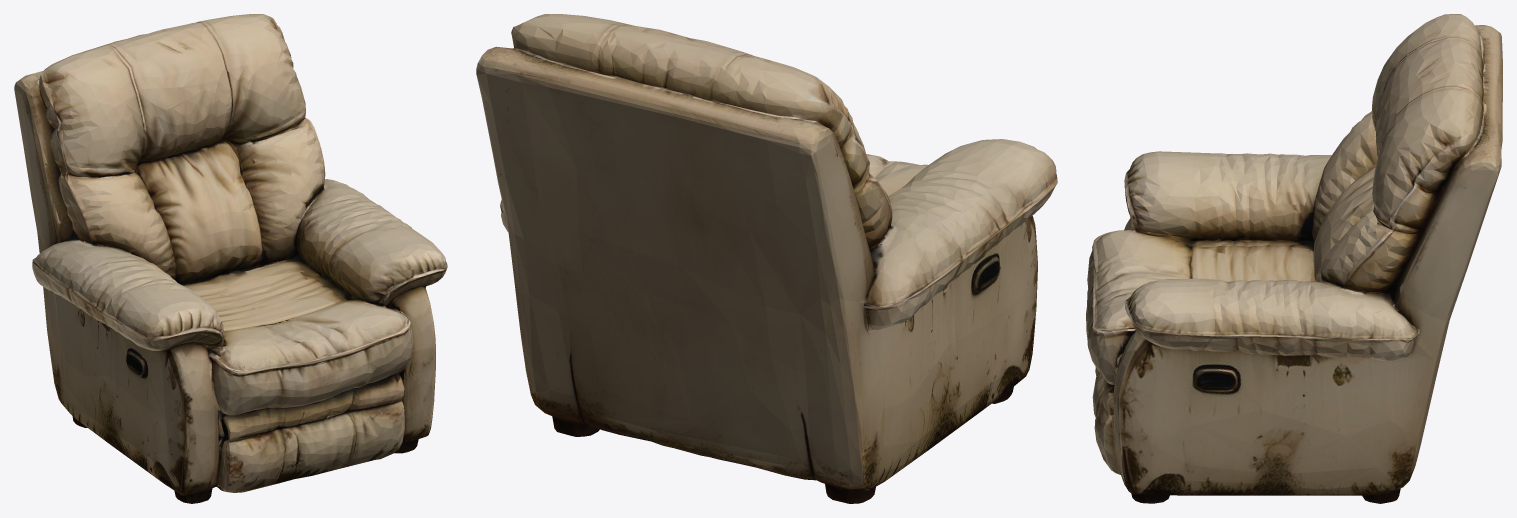
The model's file is recliner_lod0.glb.
The picture shows the model from 3 angles, left to right: view 1: azimuth 30°, elevation 25°; view 2: azimuth 150°, elevation 25°; view 3: azimuth 270°, elevation 25°; orthographic projection. The views are drawn at different scales.
Parts seen in each view (by area): view 1: material; view 2: material; view 3: material.
Boxes of the visible parts, left/top/right/bottom form: material: left=14, top=14, right=447, bottom=503; material: left=476, top=14, right=1057, bottom=503; material: left=1086, top=14, right=1502, bottom=503.
Bounding box in the file's own units: 0.9653 × 1 × 0.9974.
1 material, 1 textured.
